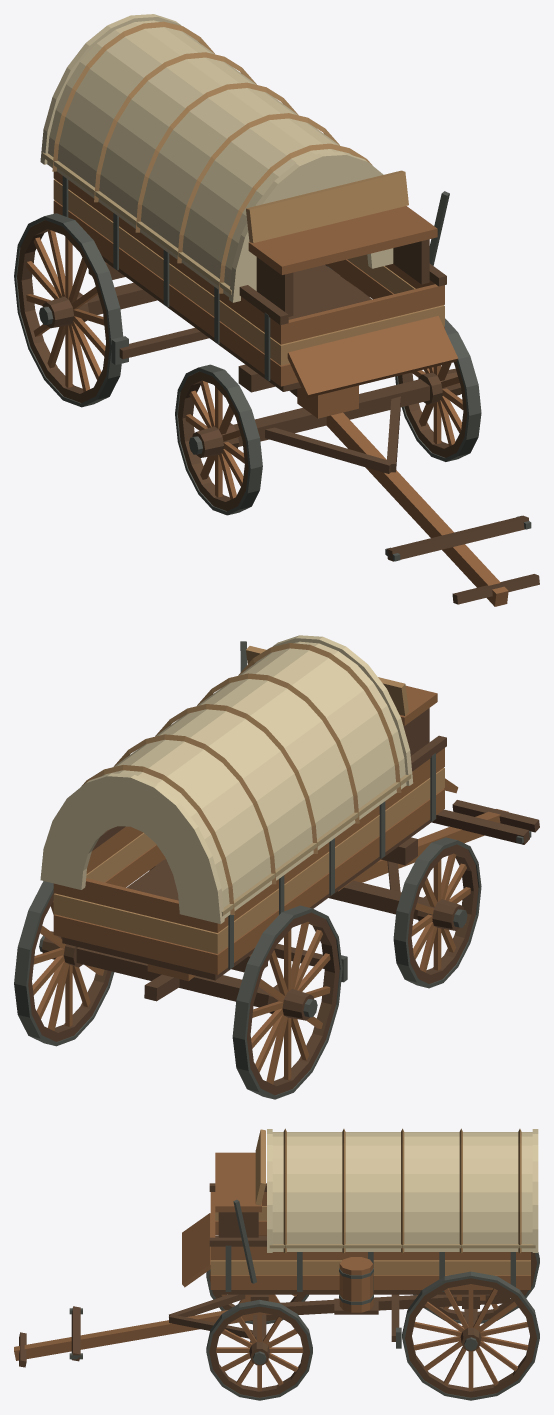
Rendered from wagon.glb.
3 views of the same model, one above another, from view 1: azimuth 30°, elevation 25°; view 2: azimuth 150°, elevation 25°; view 3: azimuth 270°, elevation 25° (orthographic). The views are drawn at different scales.
Parts seen in each view (by area): view 1: body-canvas, body-wood, body-woodLight, body-woodDark, wheelRR-wood, wheelRR-woodDark, wheelRR-iron, wheelFR-woodDark, wheelFR-iron, body-iron, wheelFR-wood, wheelFL-iron (+3 smaller); view 2: body-canvas, body-wood, body-woodLight, body-woodDark, wheelRR-wood, wheelRR-woodDark, wheelRR-iron, wheelFR-woodDark, wheelFR-iron, wheelRL-iron, wheelFR-wood, wheelRL-wood (+3 smaller); view 3: body-canvas, body-wood, body-woodDark, body-woodLight, wheelRL-wood, wheelRL-woodDark, wheelFL-woodDark, body-iron, wheelFL-wood, wheelRL-iron, wheelFL-iron, body-sack (+1 smaller).
Boxes of the visible parts, x1,y1,x2,y2 form: body-canvas: (40,14,393,302); body-wood: (53,171,508,606); body-woodLight: (52,21,444,365); body-woodDark: (87,239,539,604); wheelRR-wood: (26,229,105,392); wheelRR-woodDark: (17,220,109,402); wheelRR-iron: (14,213,123,407); wheelFR-woodDark: (178,371,248,511); wheelFR-iron: (175,364,262,515); body-iron: (62,176,531,561); wheelFR-wood: (185,380,244,499); wheelFL-iron: (395,318,481,461); body-canvas: (40,635,413,923); body-wood: (53,685,508,981); body-woodLight: (53,643,444,953); body-woodDark: (62,708,539,1007); wheelRR-wood: (251,922,330,1084); wheelRR-woodDark: (247,912,339,1095); wheelRR-iron: (232,905,342,1099); wheelFR-woodDark: (407,844,478,983); wheelFR-iron: (393,837,481,988); wheelRL-iron: (14,881,114,1046); wheelFR-wood: (411,853,470,972); wheelRL-wood: (32,901,104,1030); body-canvas: (267,1129,538,1252); body-wood: (14,1152,530,1360); body-woodDark: (19,1183,526,1367); body-woodLight: (210,1128,530,1275); wheelRL-wood: (413,1284,528,1390); wheelRL-woodDark: (405,1278,536,1397); wheelFL-woodDark: (209,1306,310,1397); body-iron: (69,1199,515,1359); wheelFL-wood: (216,1312,303,1390); wheelRL-iron: (402,1271,539,1400); wheelFL-iron: (206,1299,312,1400); body-sack: (269,1244,535,1248).
Bounding box in the file's own units: 1.97 × 2.26 × 4.73.
